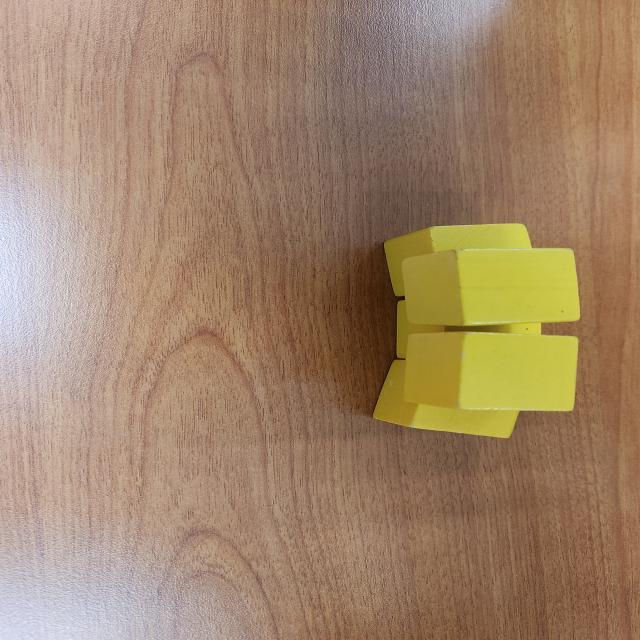yellow: (400, 331, 582, 412), (399, 248, 582, 326), (372, 357, 521, 440), (383, 223, 535, 297), (392, 300, 543, 360)
